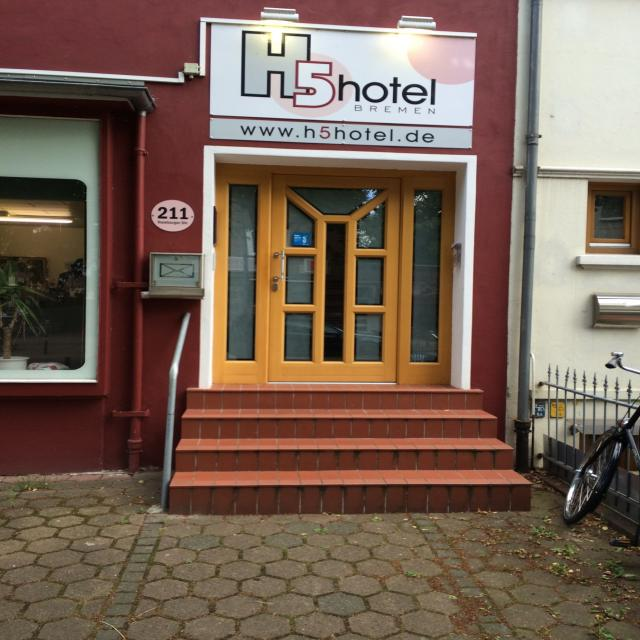AVOID: (166, 386, 528, 514)
